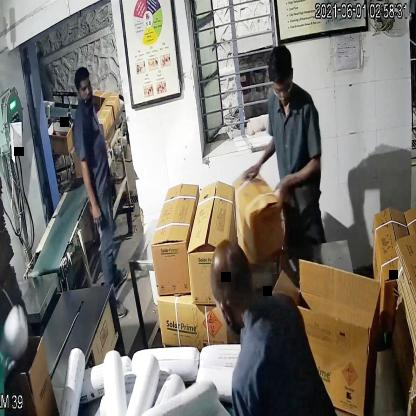goggles: (271, 73, 296, 101)
